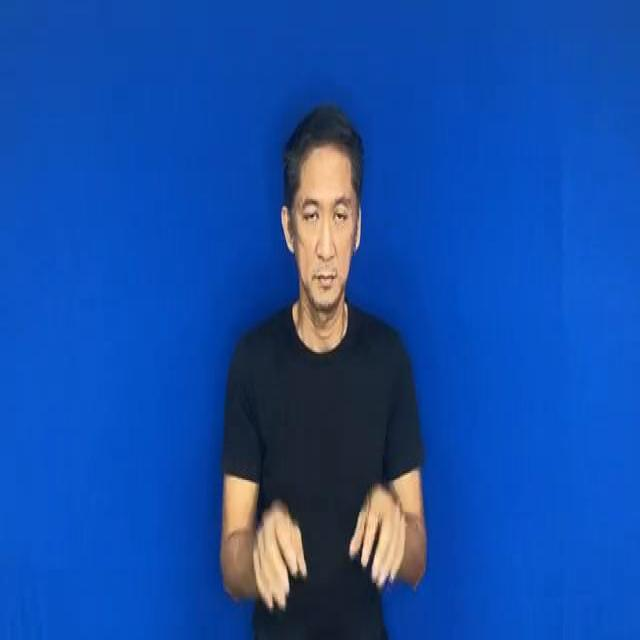egg: (228, 461, 423, 615)
